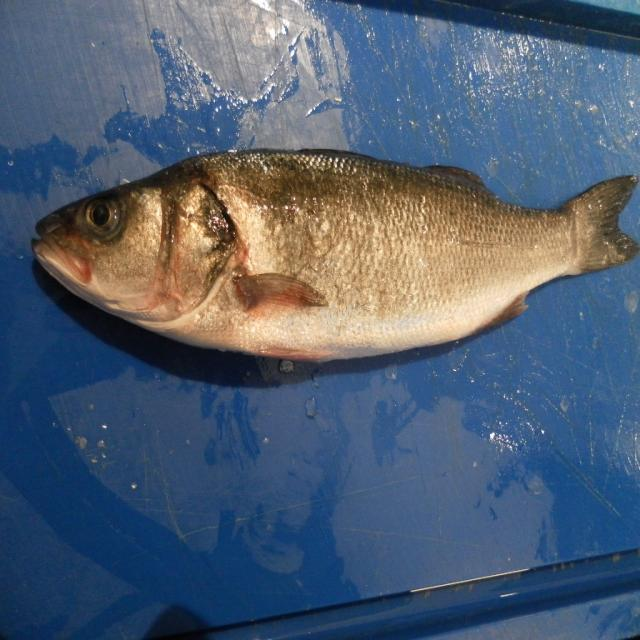Sea-Bass-levrek-: (31, 148, 640, 368)
